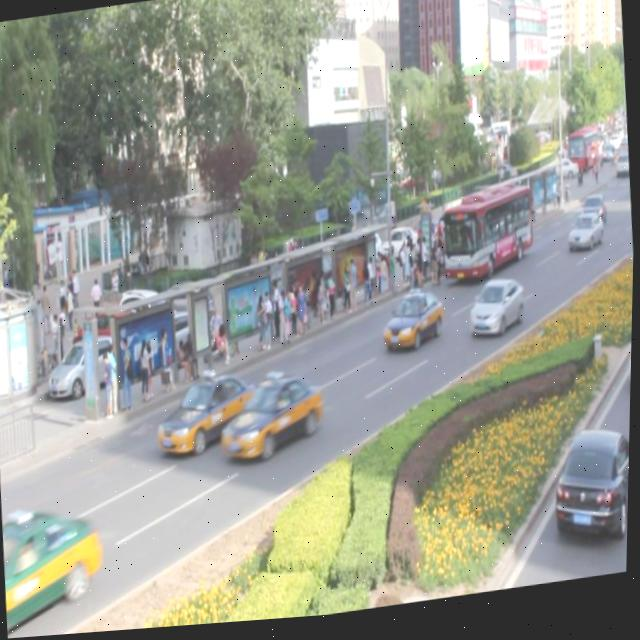car: (3, 502, 108, 622), (218, 372, 326, 467), (154, 369, 264, 458), (380, 292, 445, 356), (465, 281, 527, 345), (565, 218, 606, 259), (578, 202, 606, 234)
van: (435, 186, 534, 291)
